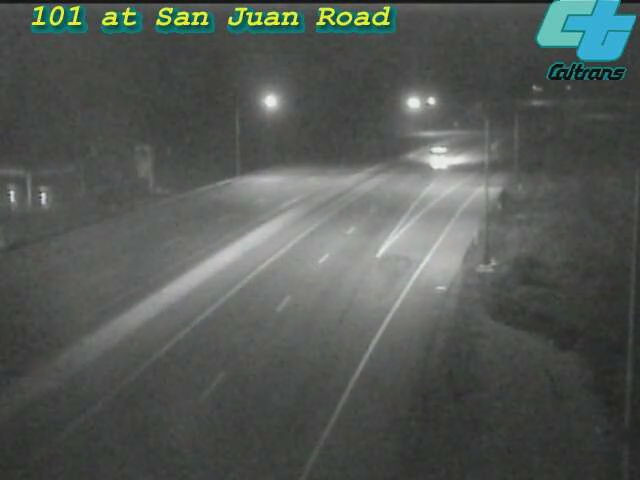vehicle: (399, 114, 479, 194)
